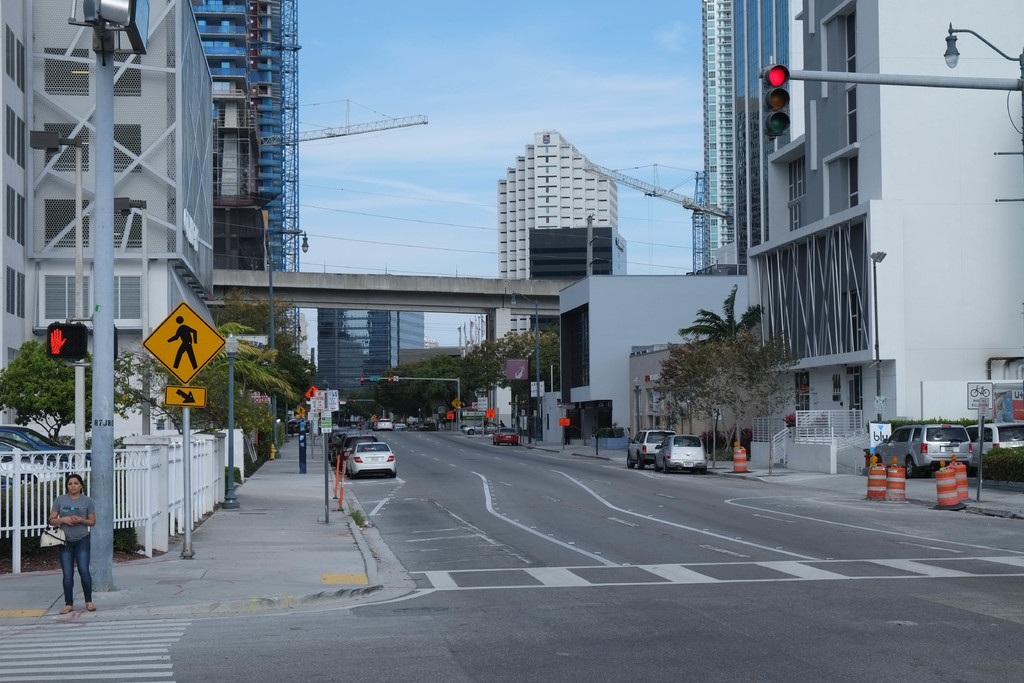red_light: (765, 67, 790, 140)
